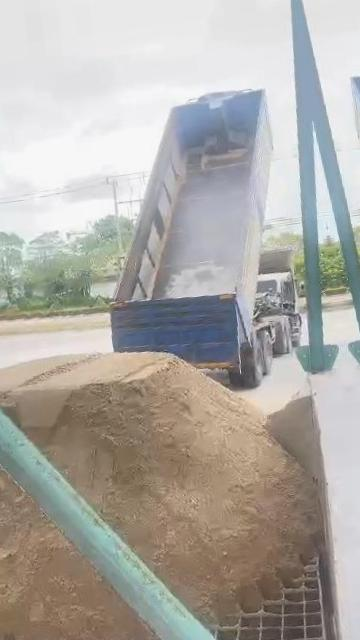sand: (0, 353, 319, 620), (0, 457, 147, 640), (267, 394, 323, 481)
